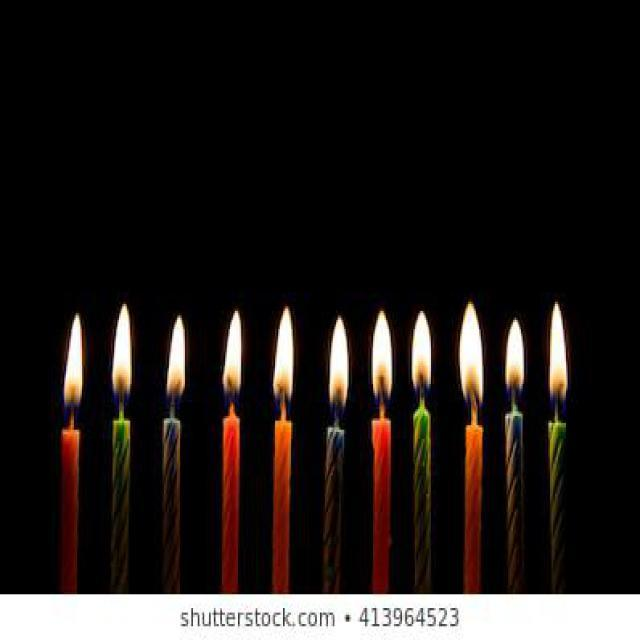Fire: (459, 304, 483, 412), (272, 308, 296, 406), (62, 313, 84, 414), (549, 302, 569, 410), (370, 310, 392, 406), (111, 303, 132, 403), (328, 314, 349, 414), (222, 310, 243, 406), (166, 315, 187, 407), (412, 310, 432, 396), (504, 318, 524, 402)
